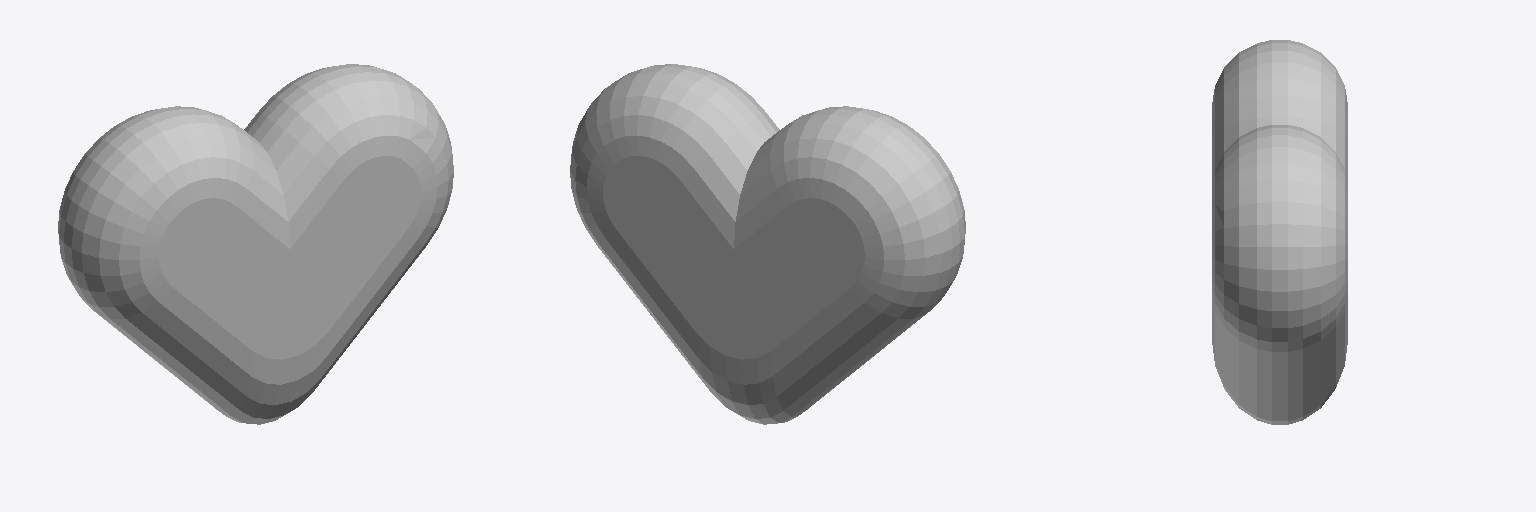
File: Heart.obj
The picture shows the model from 3 angles: view 1: azimuth 30°, elevation 25°; view 2: azimuth 150°, elevation 25°; view 3: azimuth 270°, elevation 25°; orthographic projection.
Parts seen in each view (by area): view 1: Heart; view 2: Heart; view 3: Heart.
Boxes of the visible parts, box(x1,y1,x2,y2) form: Heart: box(58, 64, 453, 424); Heart: box(570, 64, 965, 424); Heart: box(1212, 40, 1347, 424).
Bounding box in the file's own units: 3.71 × 3.06 × 1.16.